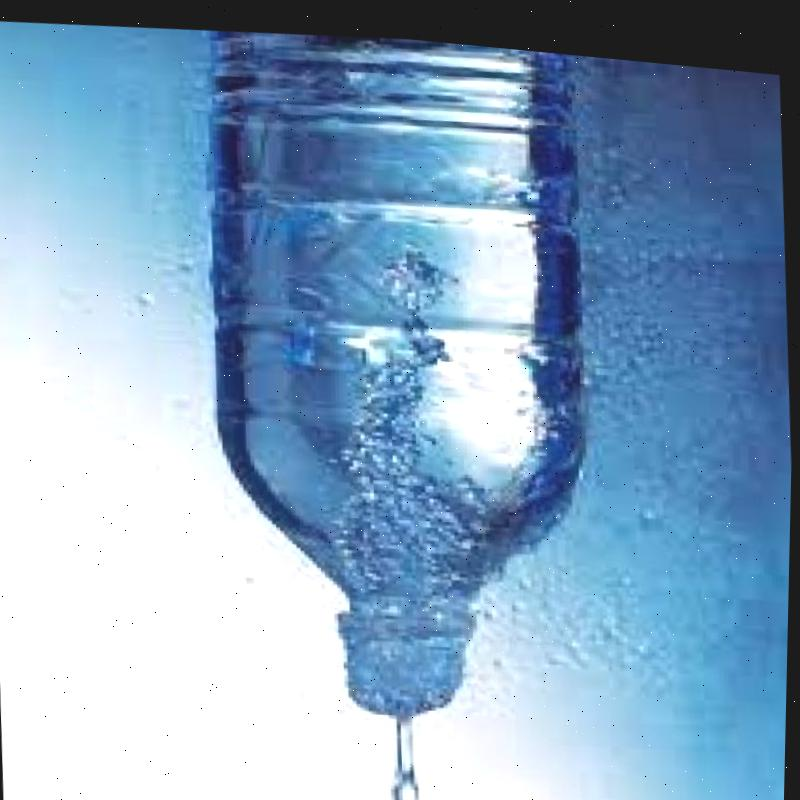botella: (189, 15, 609, 728)
